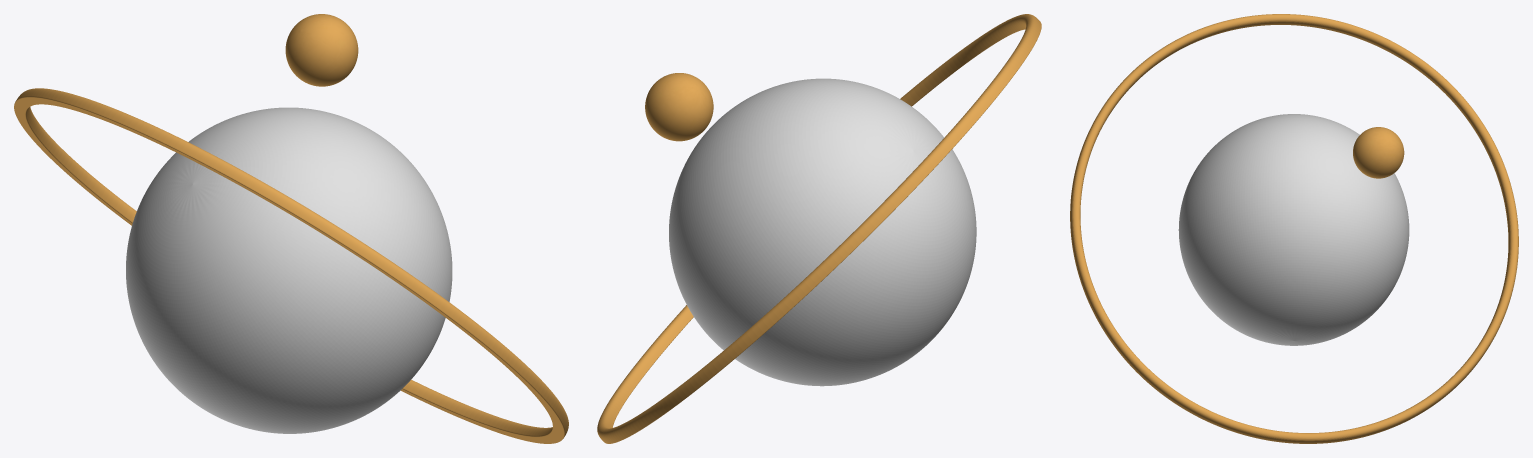
File: Planet.glb
3 views of the same model, side by side, from view 1: azimuth 30°, elevation 25°; view 2: azimuth 150°, elevation 25°; view 3: azimuth 270°, elevation 25° (orthographic). The views are drawn at different scales.
Parts seen in each view (by area): view 1: Sphere, Ring, Sphere2; view 2: Sphere, Ring, Sphere2; view 3: Sphere, Ring, Sphere2.
Part boxes in pixels (box(x1,y1,x2,y2)): Sphere: box(126, 107, 452, 433); Ring: box(14, 88, 568, 443); Sphere2: box(285, 14, 358, 86); Sphere: box(669, 78, 976, 386); Ring: box(597, 14, 1041, 443); Sphere2: box(645, 73, 713, 141); Sphere: box(1178, 114, 1409, 345); Ring: box(1070, 14, 1518, 443); Sphere2: box(1353, 127, 1404, 178).
Bounding box in the file's own units: 2.83 × 2.83 × 3.84.
Materials: 2 (1 with a texture image).
